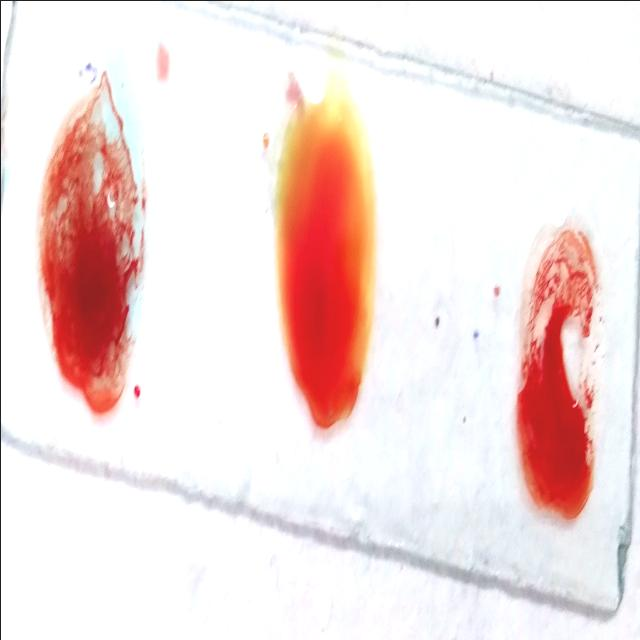A: (43, 69, 138, 396)
D: (511, 212, 597, 512)
